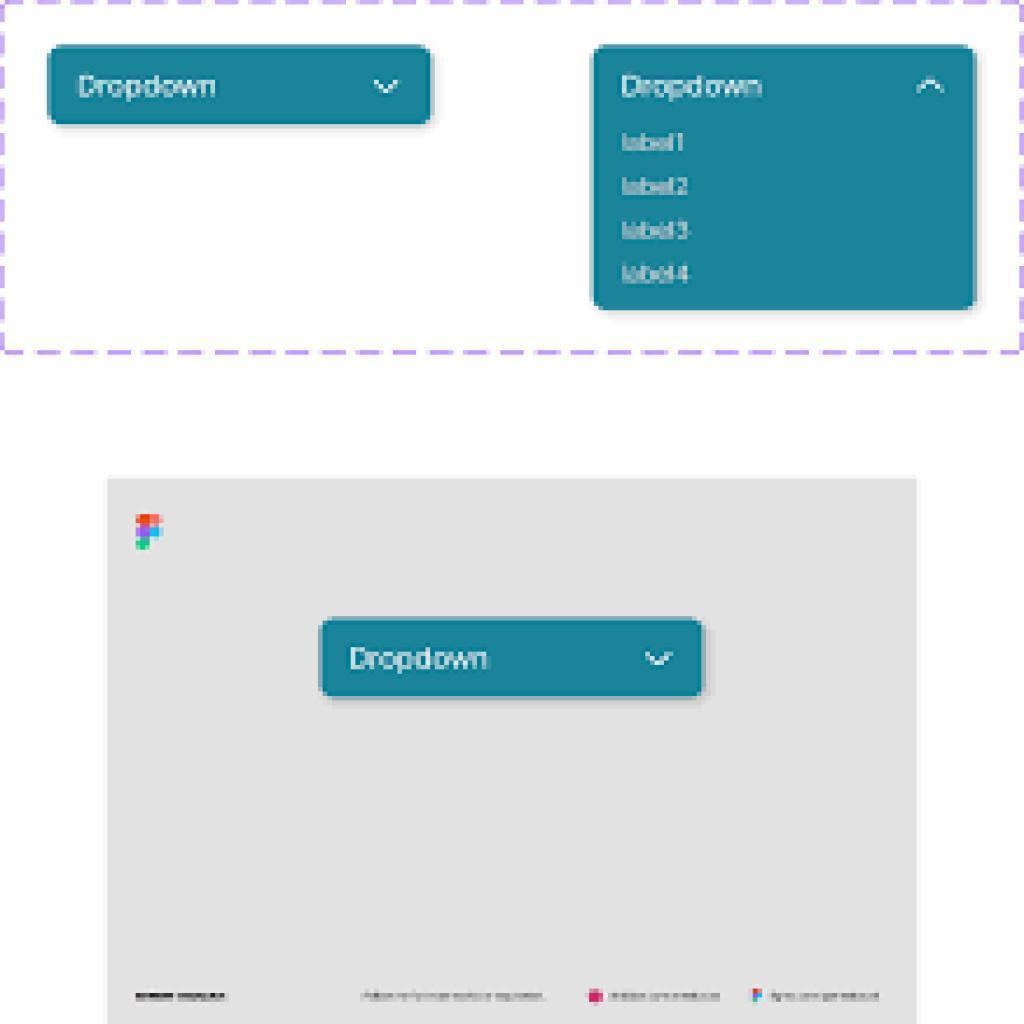dropdown: (318, 617, 700, 699), (50, 45, 428, 126)
